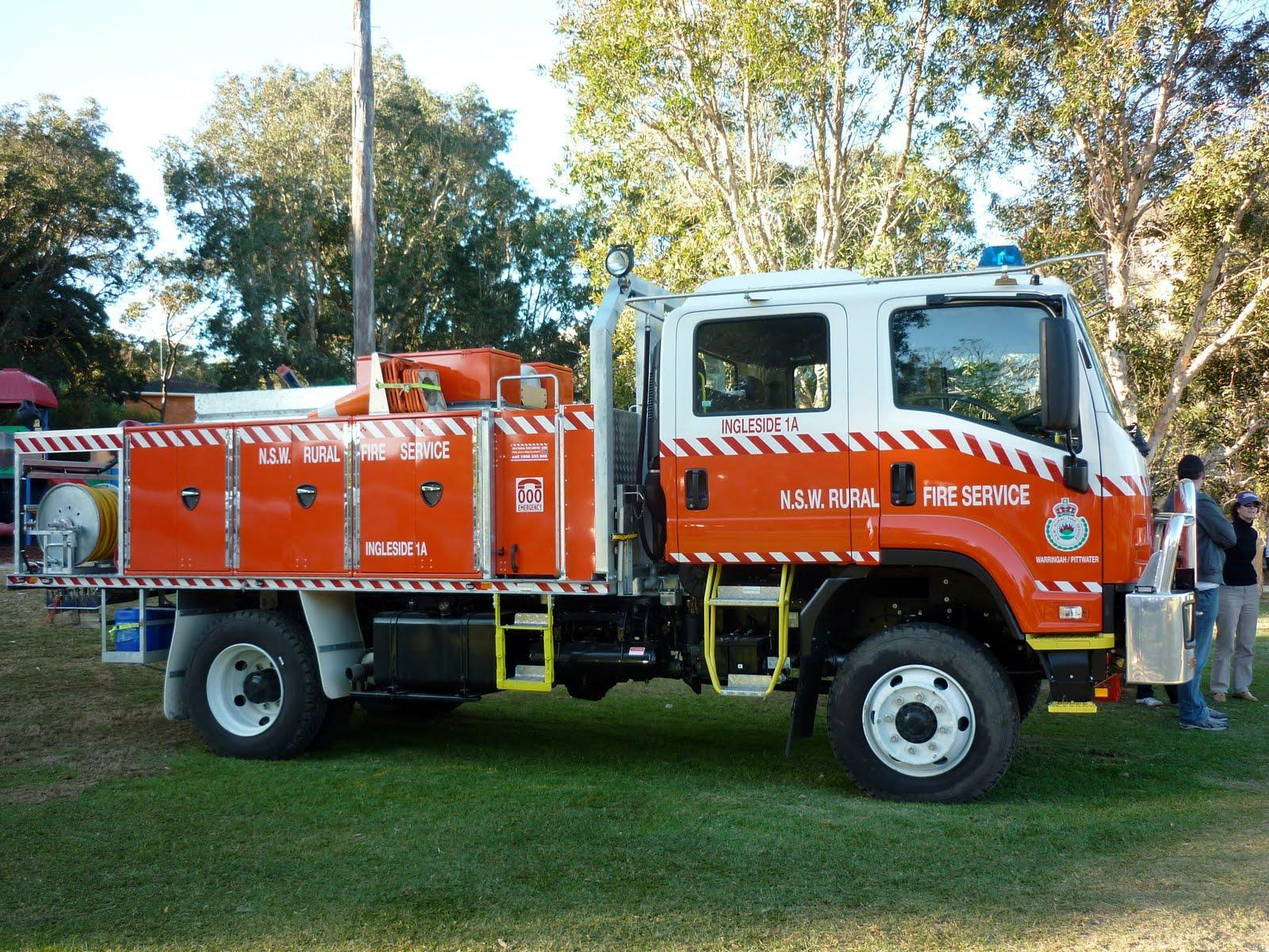Fire-engine: (0, 268, 1152, 808)
